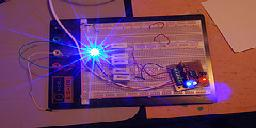LED: (79, 37, 111, 67), (199, 76, 210, 87), (184, 80, 195, 89)
